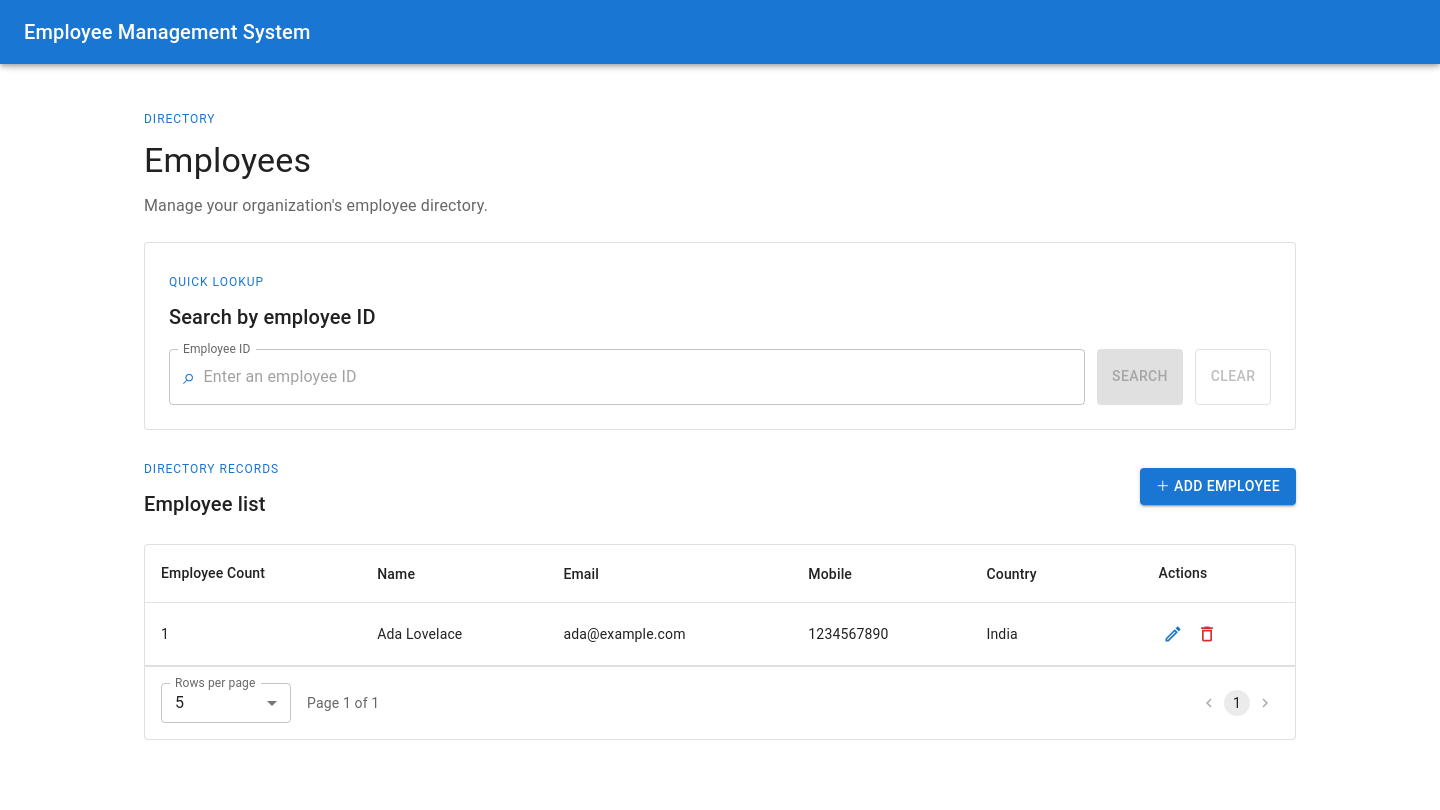
Scenario: App CRUD UI flows › deletes after confirmation and shows success feedback
Click the button named "Delete Ada Lovelace" at [1208, 634], box [1192, 619, 1222, 649]
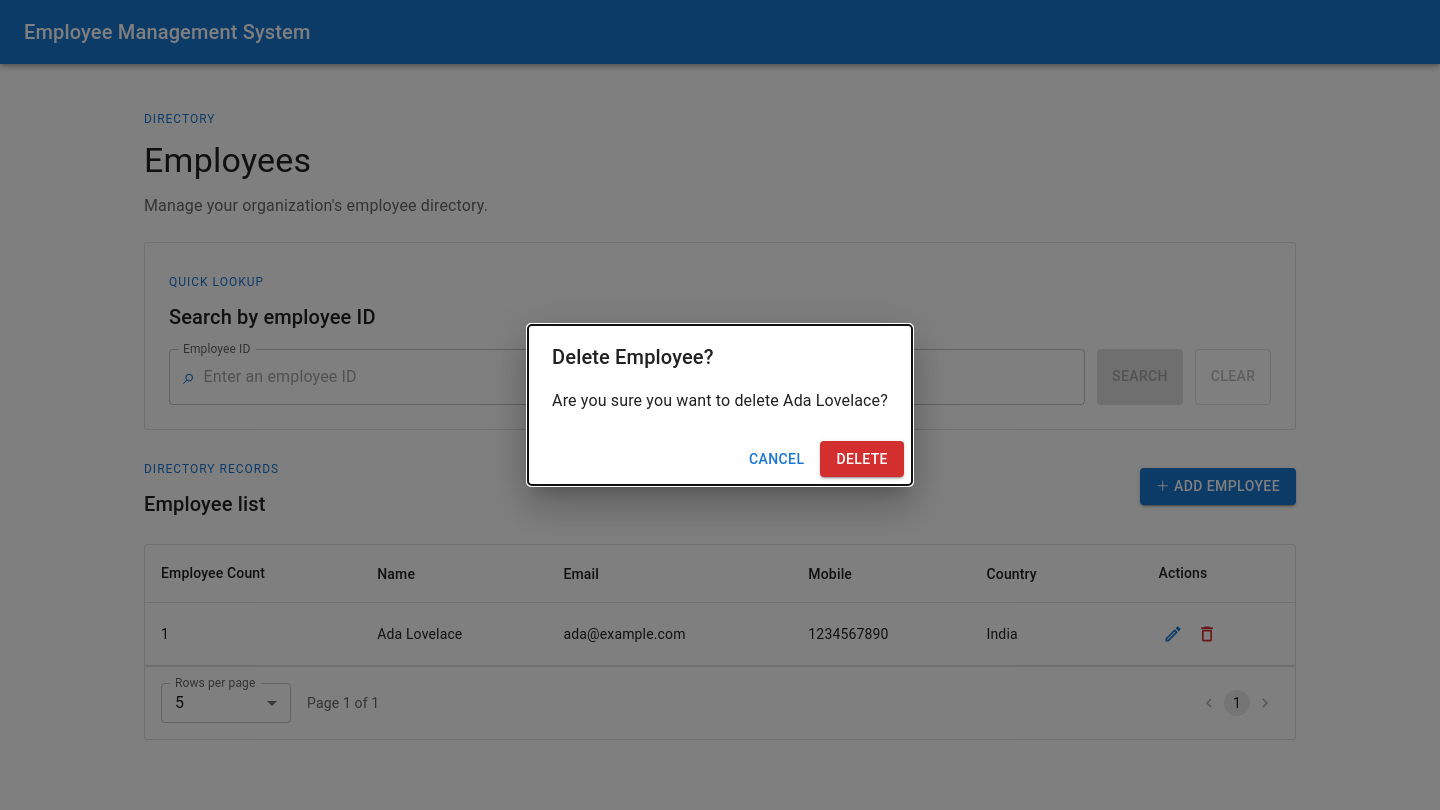
Now the heading "Delete Employee?" is shown, box [552, 345, 714, 369]
Click the button "Delete" at [862, 459], box [820, 441, 904, 477]
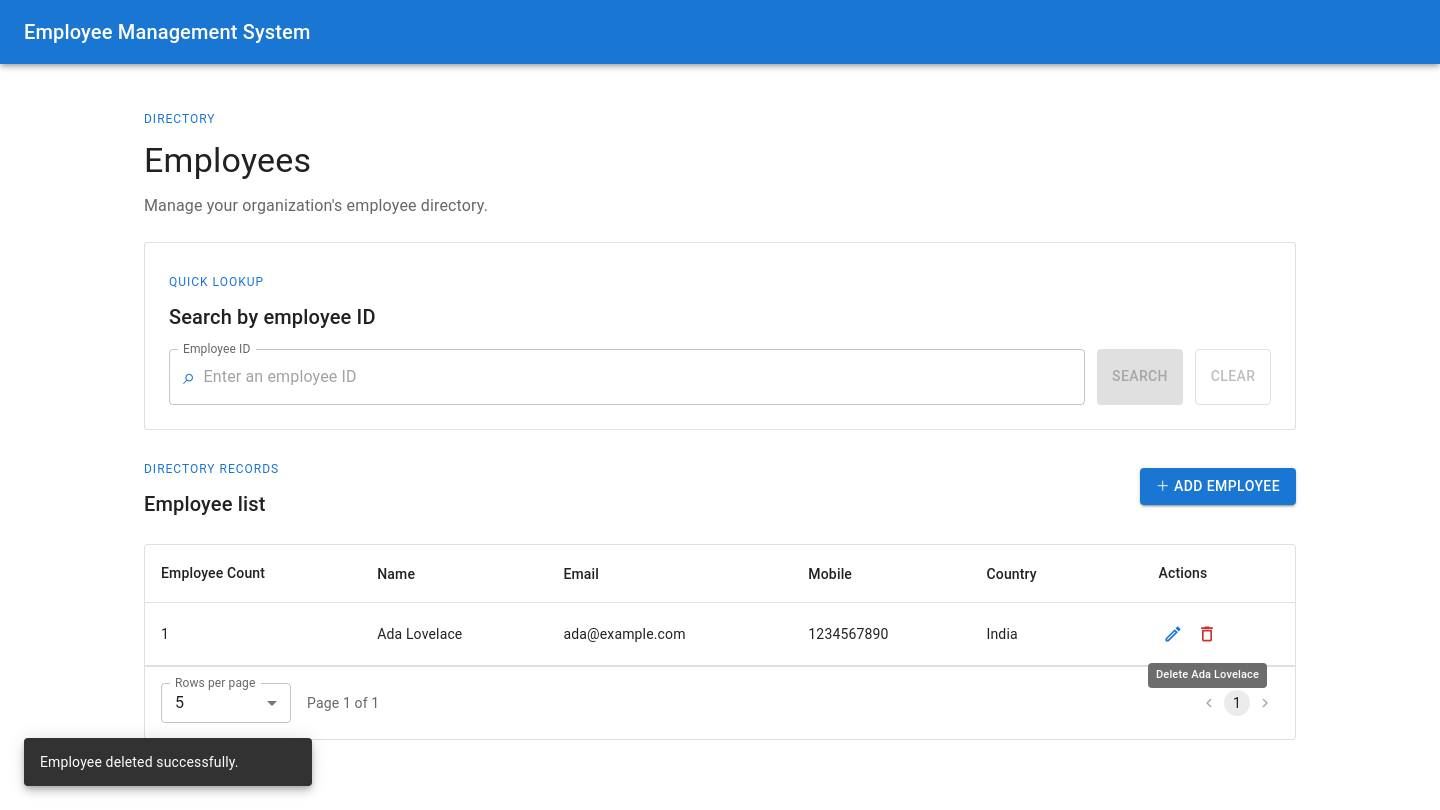
Now the text "Employee deleted successfully." is shown, box [40, 754, 239, 770]
